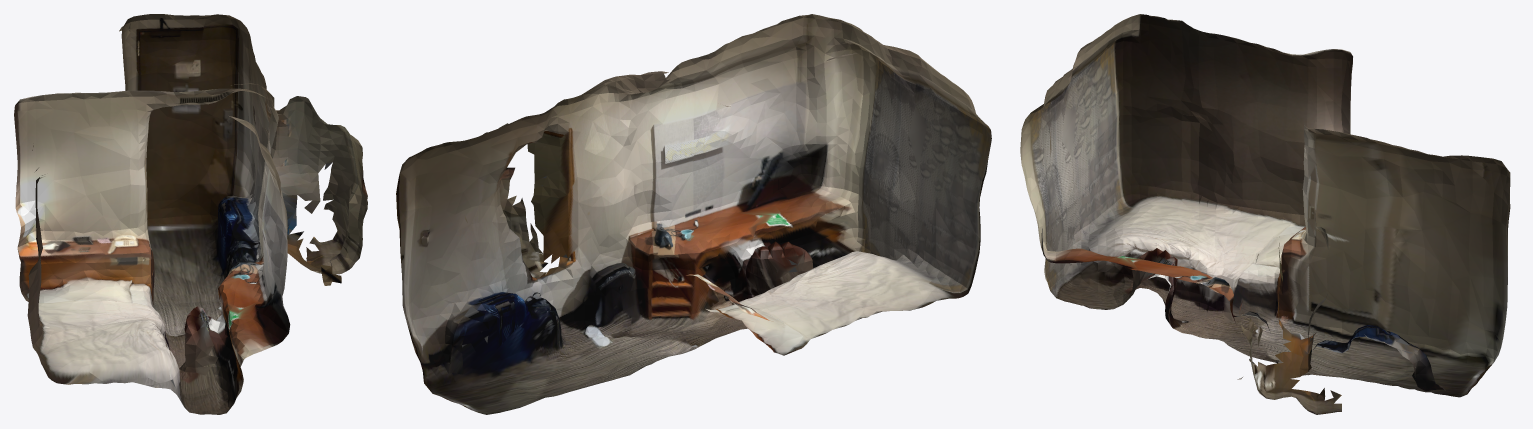
The picture shows the model from 3 angles, left to right: view 1: azimuth 30°, elevation 25°; view 2: azimuth 150°, elevation 25°; view 3: azimuth 270°, elevation 25°; orthographic projection. The views are drawn at different scales.
Parts seen in each view (by area): view 1: mesh; view 2: mesh; view 3: mesh.
Part boxes in pixels (x1,y1,x2,y2): mesh: (14, 14, 367, 414); mesh: (396, 14, 991, 414); mesh: (1020, 14, 1510, 414).
Bounding box in the file's own units: 4.49 × 2.57 × 4.78.
1 material, 1 textured.
